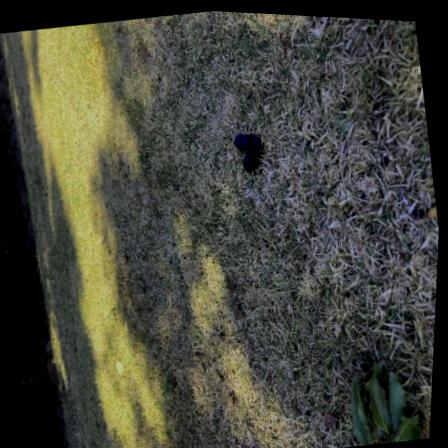dog-poop: (230, 124, 275, 171)
